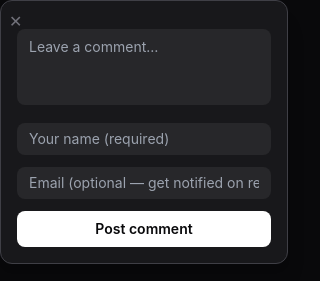
Test: CommentCompose › submission › shows nudge state when API returns nudge and localStorage flag is not set
Type "Hi" into the text box with placeholder "Leave a comment…" at (144, 67), box [17,29,271,105]
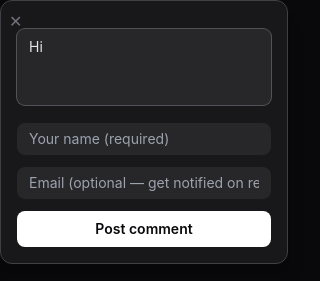
Type "Bob" into the field with placeholder "Your name (required)" at (144, 139), box [17,123,271,155]
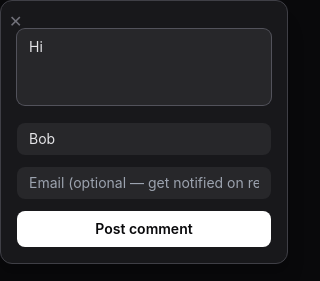
Click the button "Post comment" at (144, 229), box [17,211,271,247]
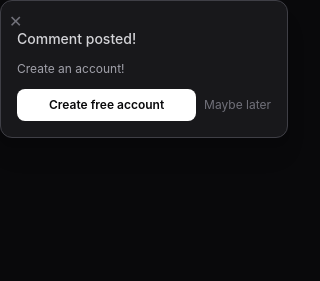
Check: the text "Comment posted!" is shown, box [17,30,136,47]
